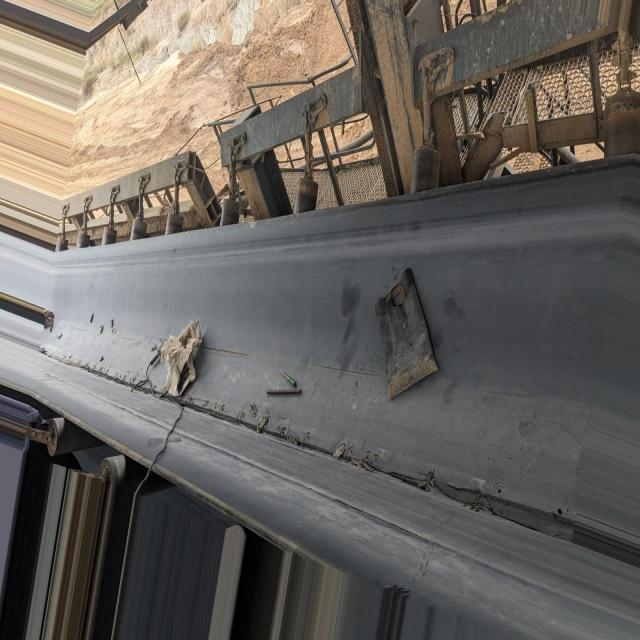Other Objects: (375, 266, 440, 404), (138, 352, 189, 485), (155, 306, 210, 396), (262, 365, 309, 411)
Roller: (48, 411, 94, 456), (97, 451, 137, 488), (412, 146, 441, 189), (296, 178, 319, 211), (217, 198, 241, 224), (128, 218, 150, 237), (164, 210, 182, 229), (104, 224, 119, 243), (80, 232, 97, 248), (53, 237, 71, 250)
Tear: (84, 349, 587, 542)
